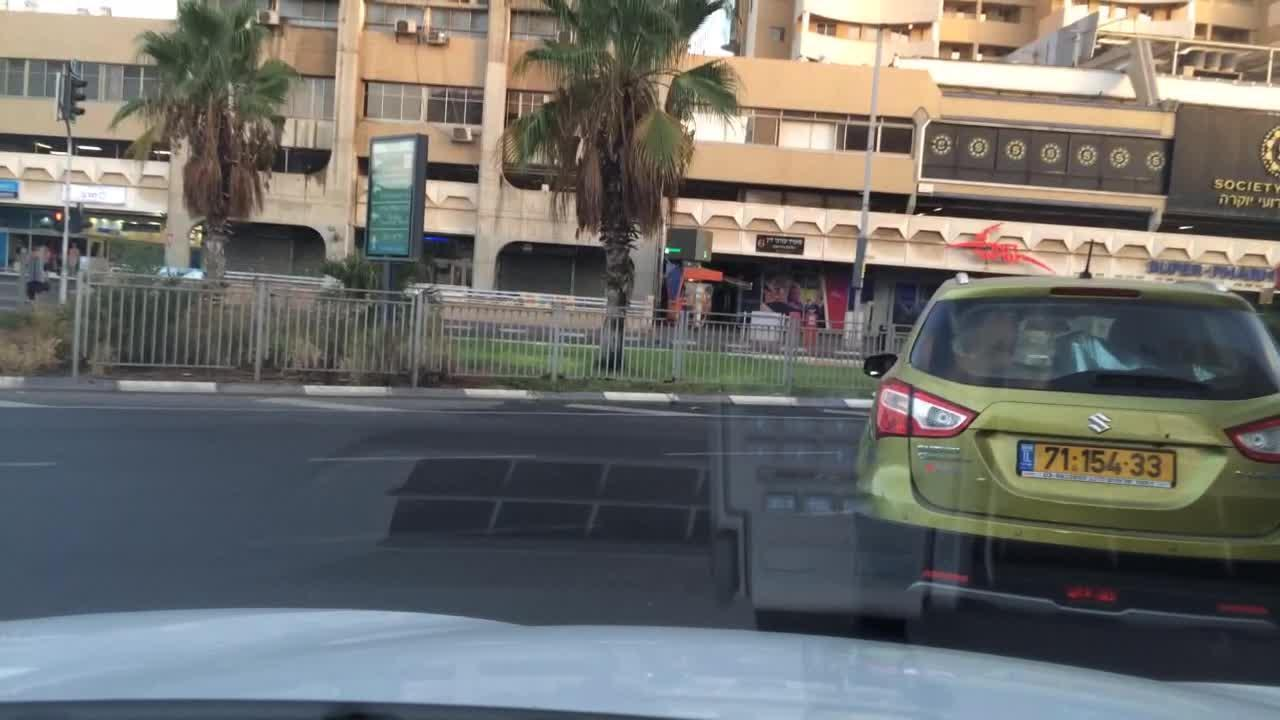suzuki: (1082, 406, 1123, 446)
